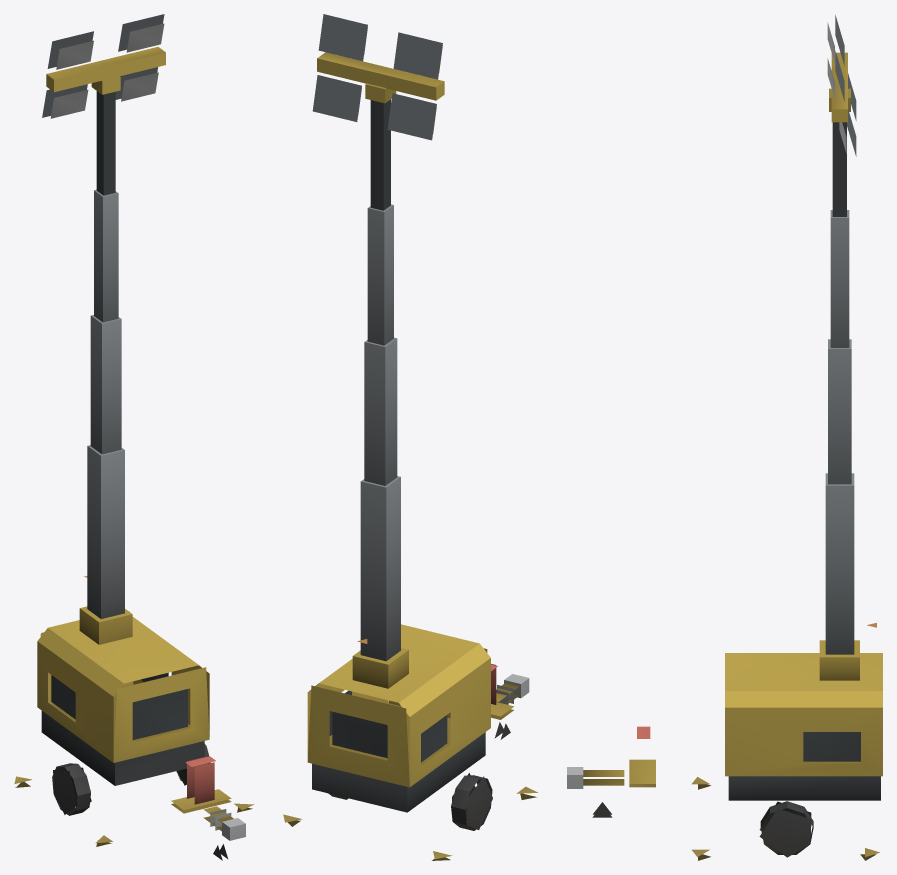
Rendered from lamp.lod.glb.
The picture shows the model from 3 angles, left to right: view 1: azimuth 30°, elevation 25°; view 2: azimuth 150°, elevation 25°; view 3: azimuth 270°, elevation 25°; orthographic projection. The views are drawn at different scales.
Parts seen in each view (by area): view 1: lamp; view 2: lamp; view 3: lamp.
Part boxes in pixels (x1,y1,x2,y2): lamp: (14,14,254,860); lamp: (283,14,538,860); lamp: (567,15,882,860).
Size of the model in its own units: 1.99 by 9.01 by 3.3.
